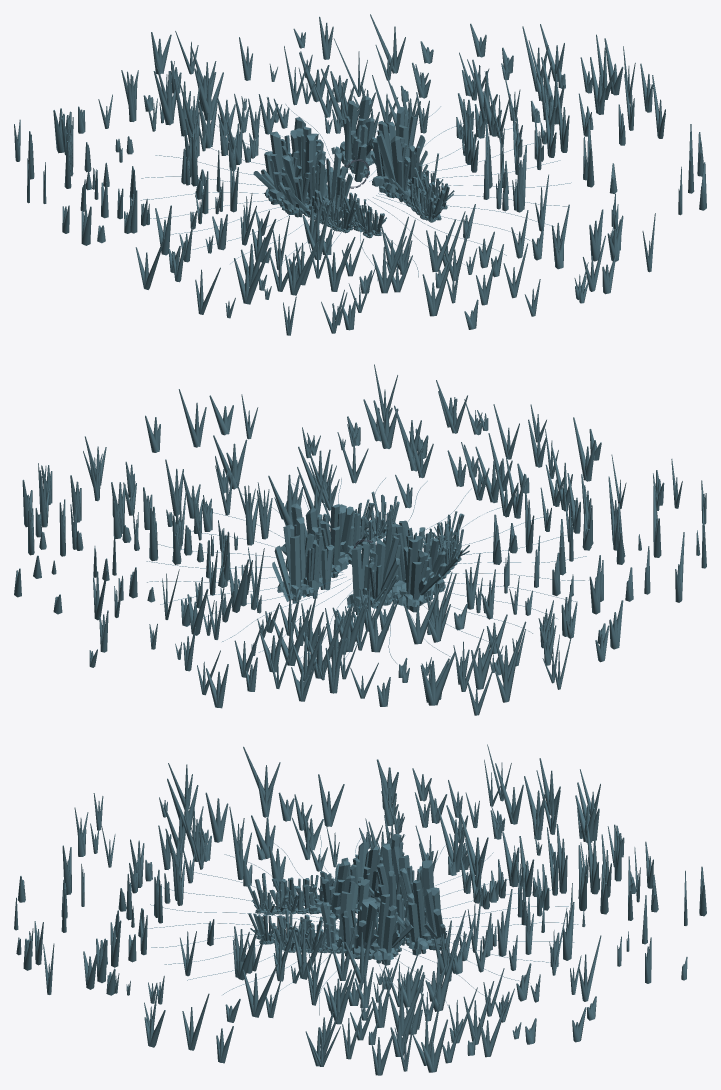
The model's file is neon-forest-static.glb.
3 views of the same model, one above another, from view 1: azimuth 30°, elevation 25°; view 2: azimuth 150°, elevation 25°; view 3: azimuth 270°, elevation 25° (orthographic). The views are drawn at different scales.
Parts seen in each view (by area): view 1: neonForest.crystals, neonForest.roots; view 2: neonForest.crystals, neonForest.roots; view 3: neonForest.crystals, neonForest.roots.
Part boxes in pixels (box(x1,y1,x2,y2)): neonForest.crystals: box(14, 14, 706, 335); neonForest.roots: box(140, 100, 571, 280); neonForest.crystals: box(14, 364, 706, 715); neonForest.roots: box(146, 478, 588, 663); neonForest.crystals: box(14, 744, 706, 1075); neonForest.roots: box(147, 834, 578, 1015).
Size of what is drawn, in the model's own units: 82.36 by 10.19 by 86.73.
